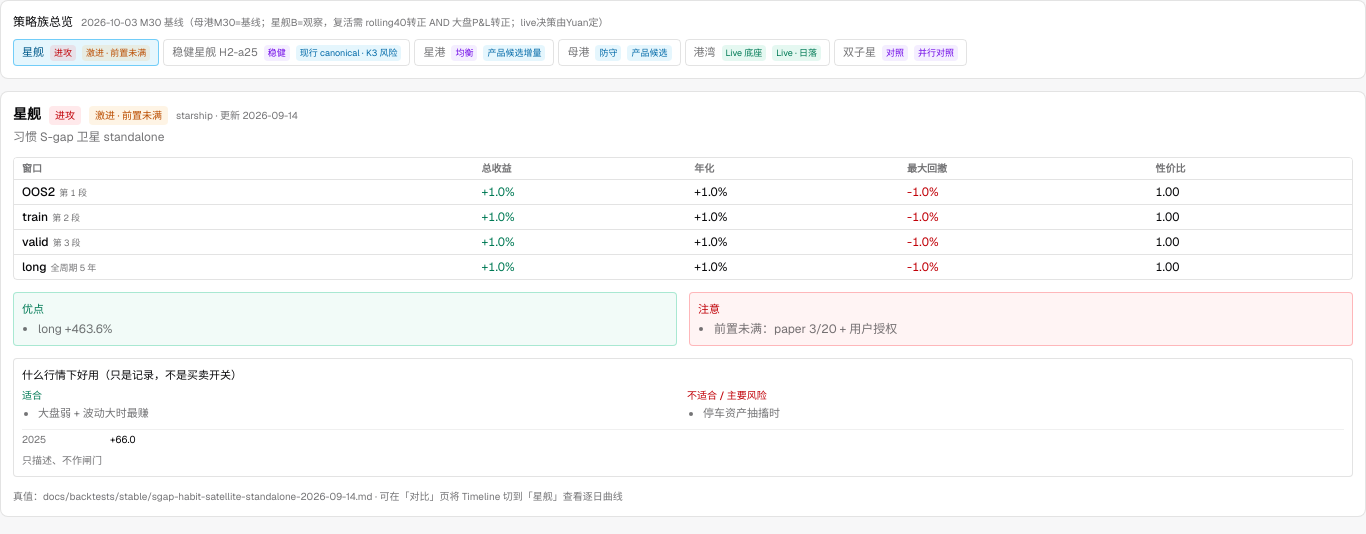
StrategyCatalogPanel › switches to 星港 details on click
Click the button "星港".
click(484, 52)  # box [414,39,554,66]
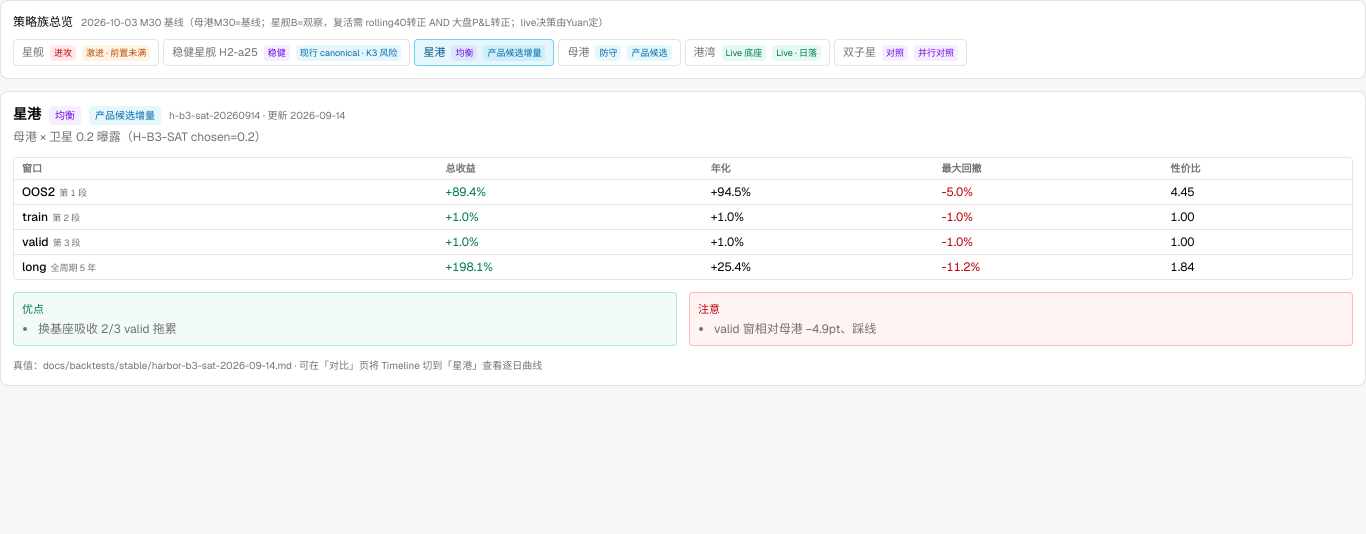
Expected: the text "母港 × 卫星 0.2 曝露（H-B3-SAT chosen=0.2）" is shown, [13,128,267,144]
Expected: the text "+89.4%" is shown, [446,179,711,204]
Expected: the list item "valid 窗相对母港 −4.9pt、踩线" is shown, [714,321,876,337]
